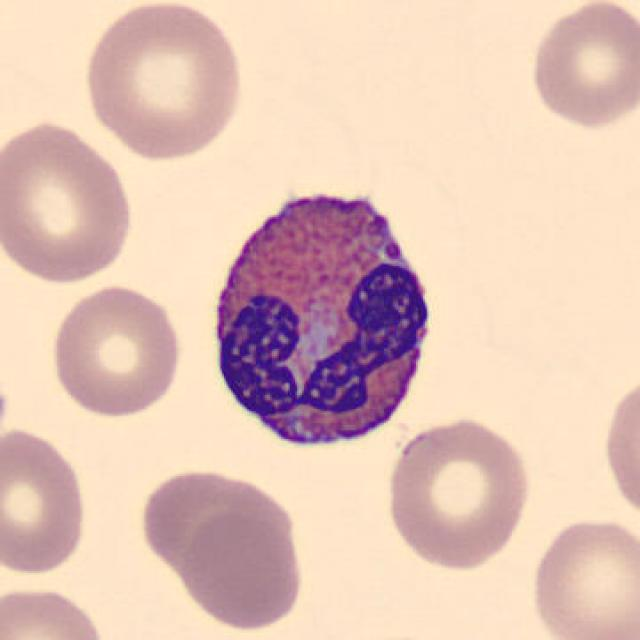Eosinophil: (196, 167, 450, 462)
RBC: (78, 0, 249, 162), (381, 413, 535, 573), (0, 114, 140, 287), (45, 280, 186, 422), (135, 464, 295, 573), (176, 508, 308, 633), (524, 0, 638, 132), (524, 513, 638, 640), (0, 421, 92, 578), (597, 367, 640, 530), (0, 582, 110, 640)
